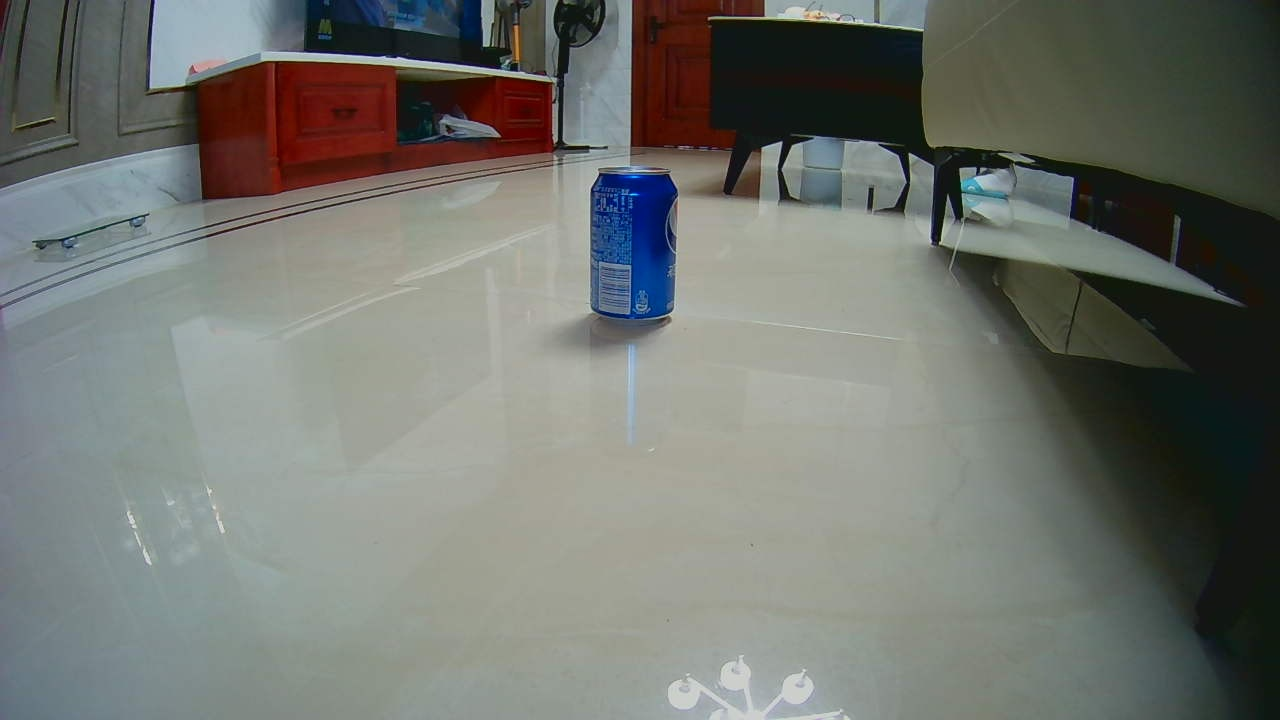pessi: (584, 165, 675, 325)
